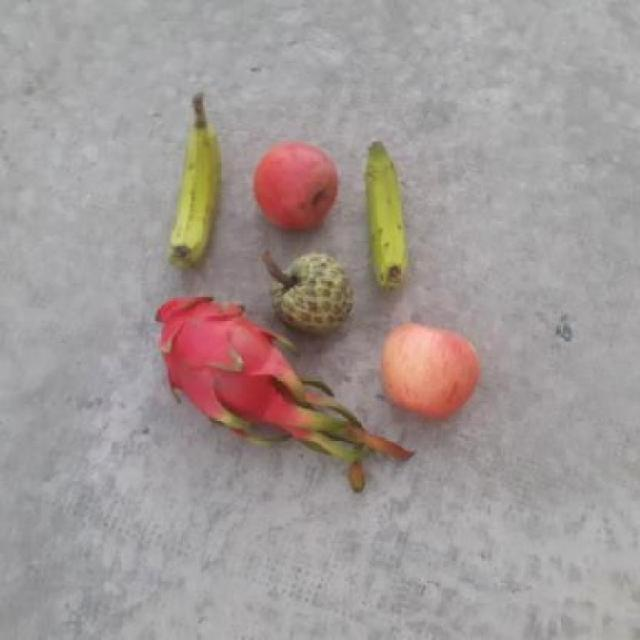apple: (380, 318, 482, 420), (250, 140, 344, 232)
banana: (364, 143, 424, 302), (164, 126, 231, 266)
dragon fruit: (150, 292, 292, 436)
sugar apple: (269, 249, 354, 340)
